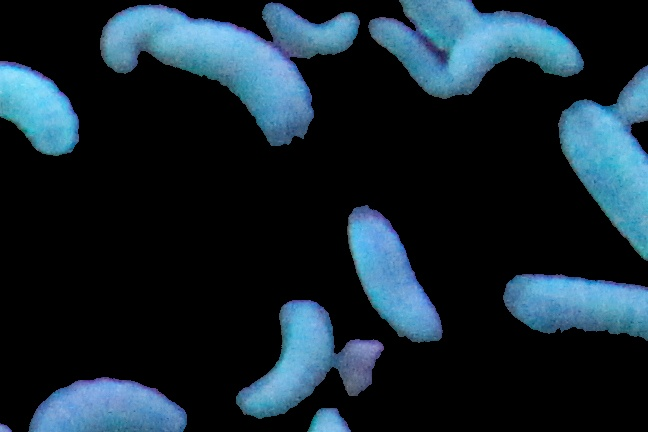larvae: (148, 8, 314, 149), (551, 94, 648, 265), (345, 205, 446, 342), (436, 11, 586, 98), (502, 263, 648, 345), (236, 297, 338, 413), (22, 375, 189, 432), (1, 54, 81, 157), (91, 6, 200, 74), (368, 20, 443, 95), (263, 5, 363, 60)
